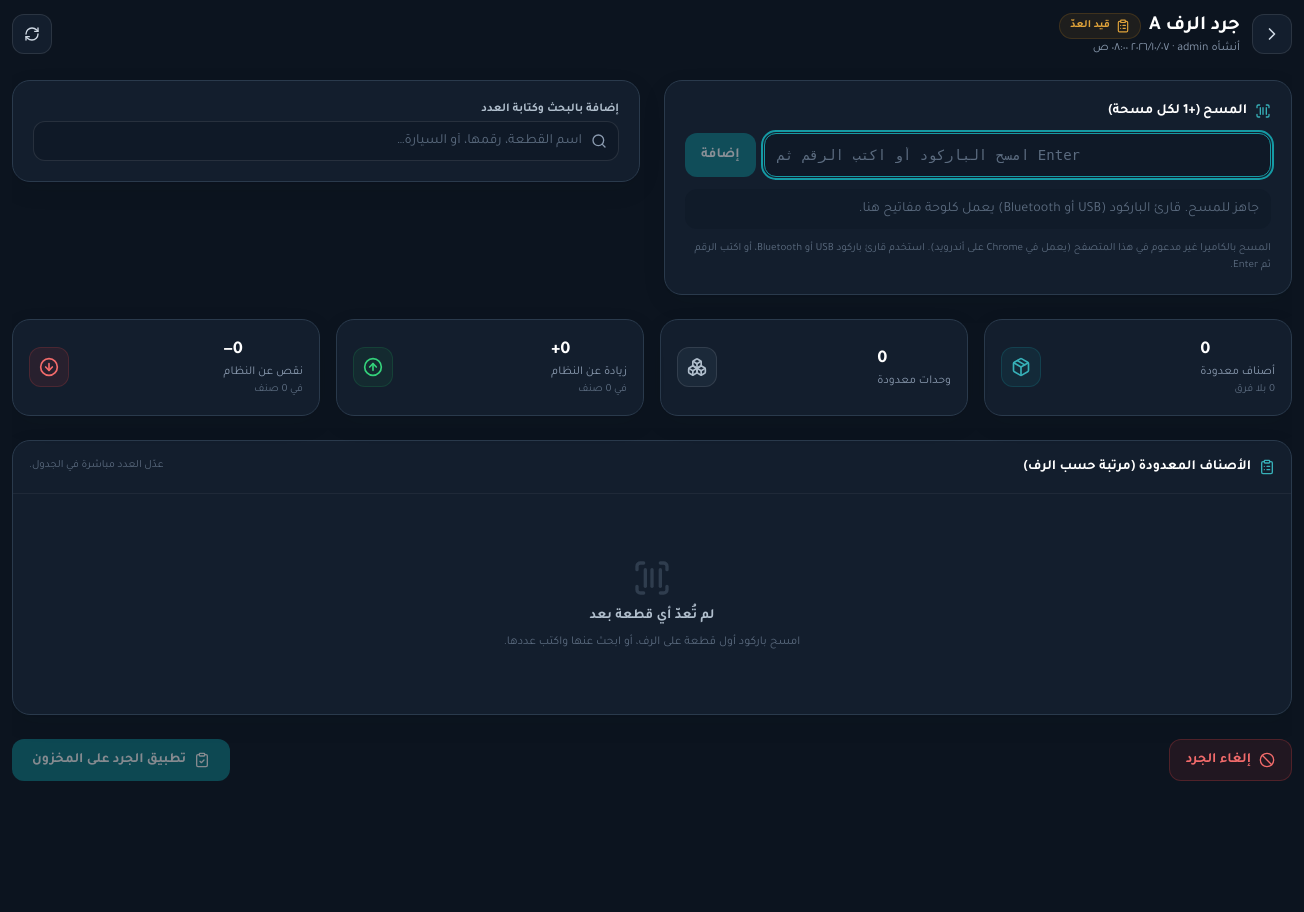
Test: StockCountSheet › رمز غير معروف يعطي رسالة واضحة
Type "XYZ" into the field named "الباركود أو رقم القطعة" at x=1017, y=155, box [764, 133, 1271, 177]
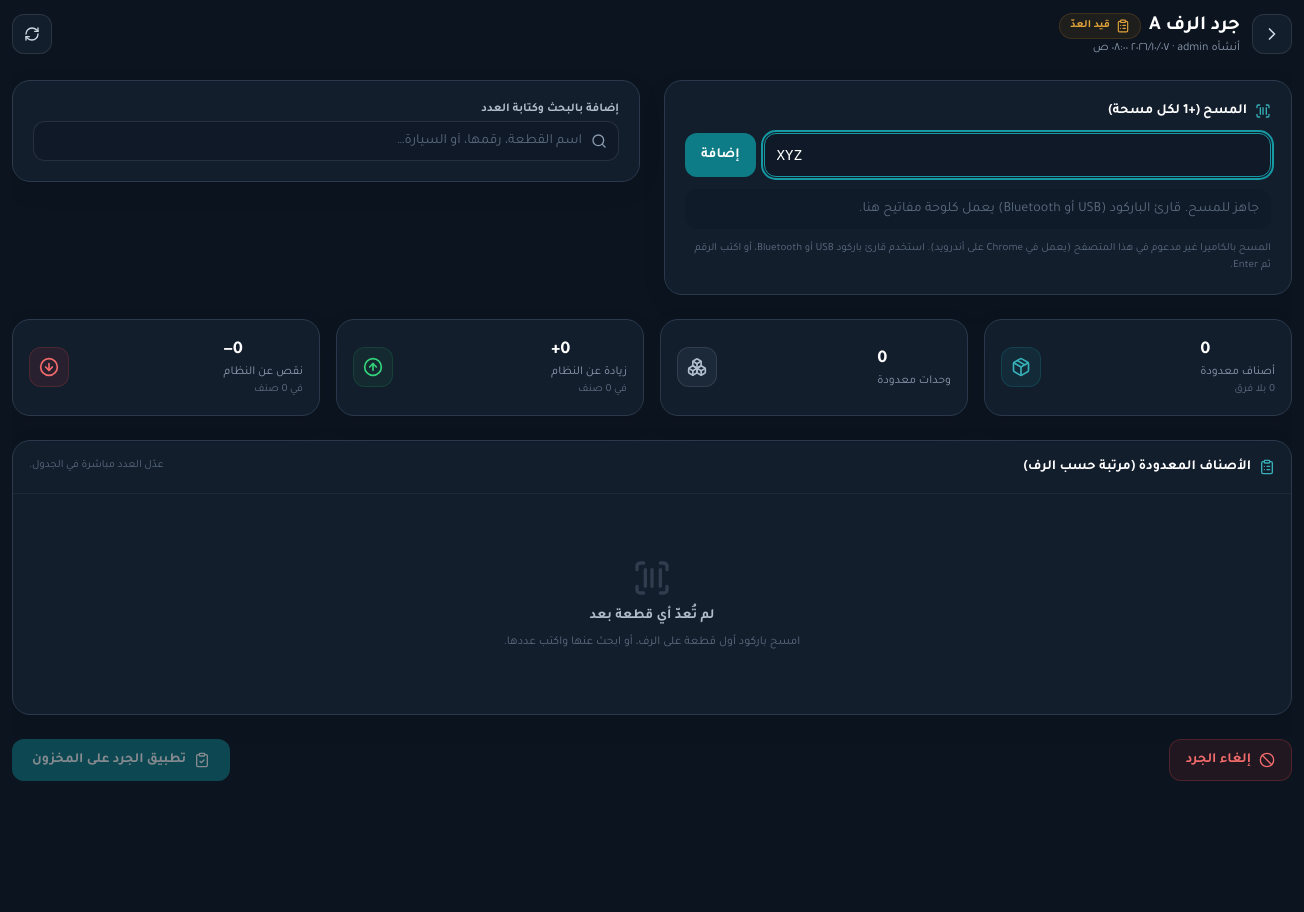
Submit the form named "الباركود أو رقم القطعة", box [685, 133, 1271, 177]
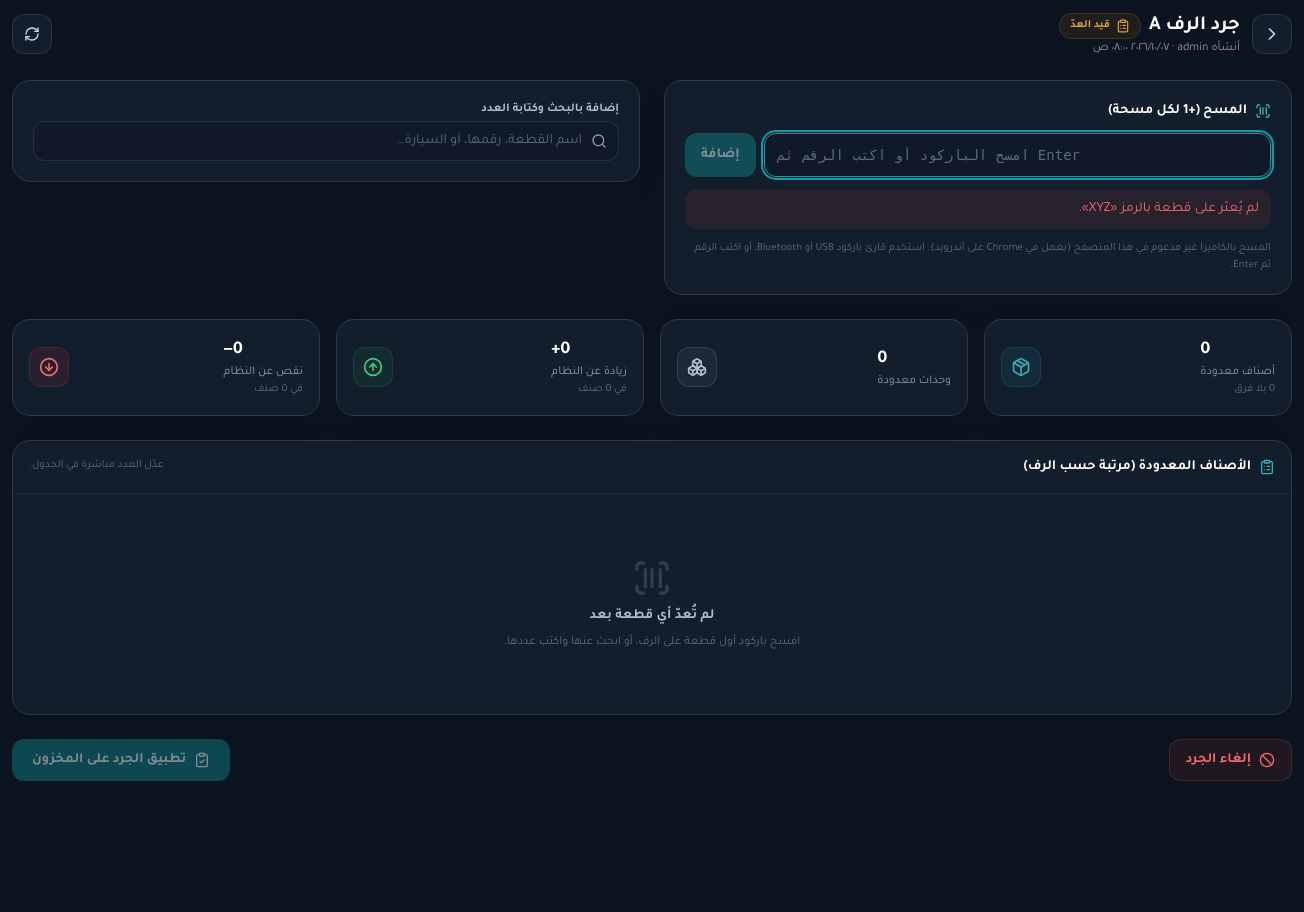
Expected: the text "لم يُعثر على قطعة بالرمز «XYZ»." is shown, [1079, 202, 1259, 216]
